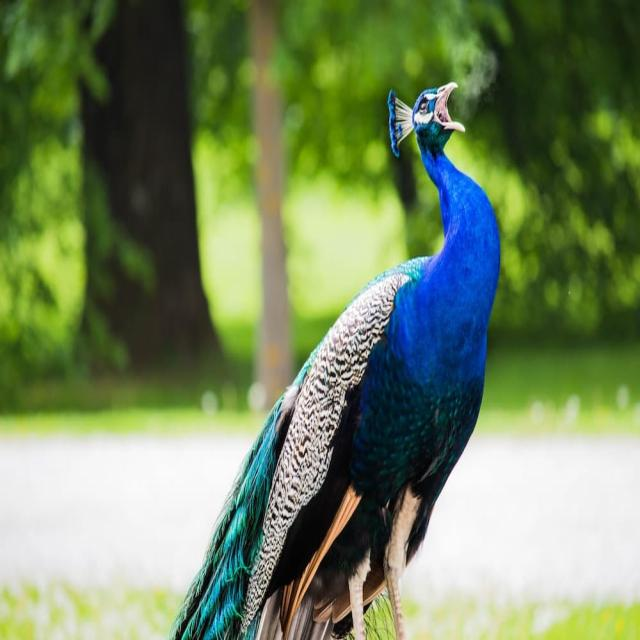Birds: (347, 41, 527, 529)
